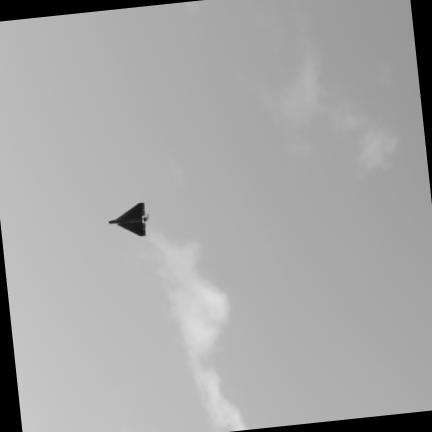Shahed: (109, 203, 149, 236)
